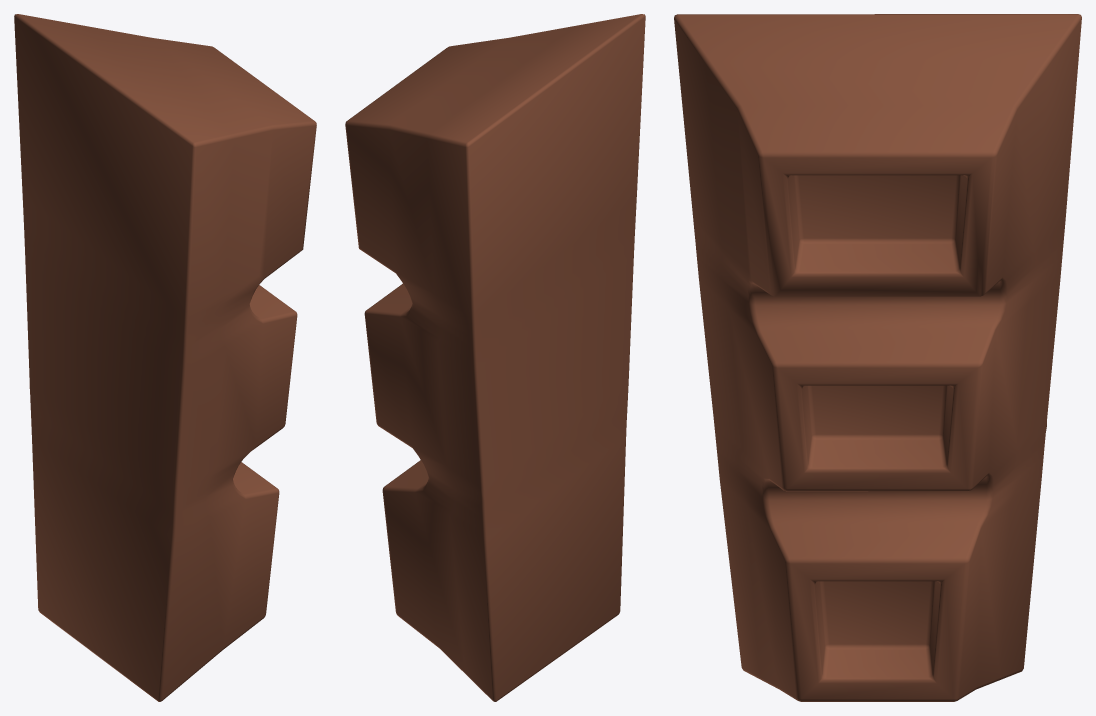
Rendered from Sweet_5.fbx.
3 renders of one model, left to right at view 1: azimuth 30°, elevation 25°; view 2: azimuth 150°, elevation 25°; view 3: azimuth 270°, elevation 25°, orthographic. The views are drawn at different scales.
Parts seen in each view (by area): view 1: Sweet_5; view 2: Sweet_5; view 3: Sweet_5.
Boxes of the visible parts, bbox=[...] form: Sweet_5: bbox=[14, 14, 316, 701]; Sweet_5: bbox=[345, 14, 645, 701]; Sweet_5: bbox=[674, 14, 1081, 701].
Bounding box in the file's own units: 21.97 × 73.17 × 41.03.
